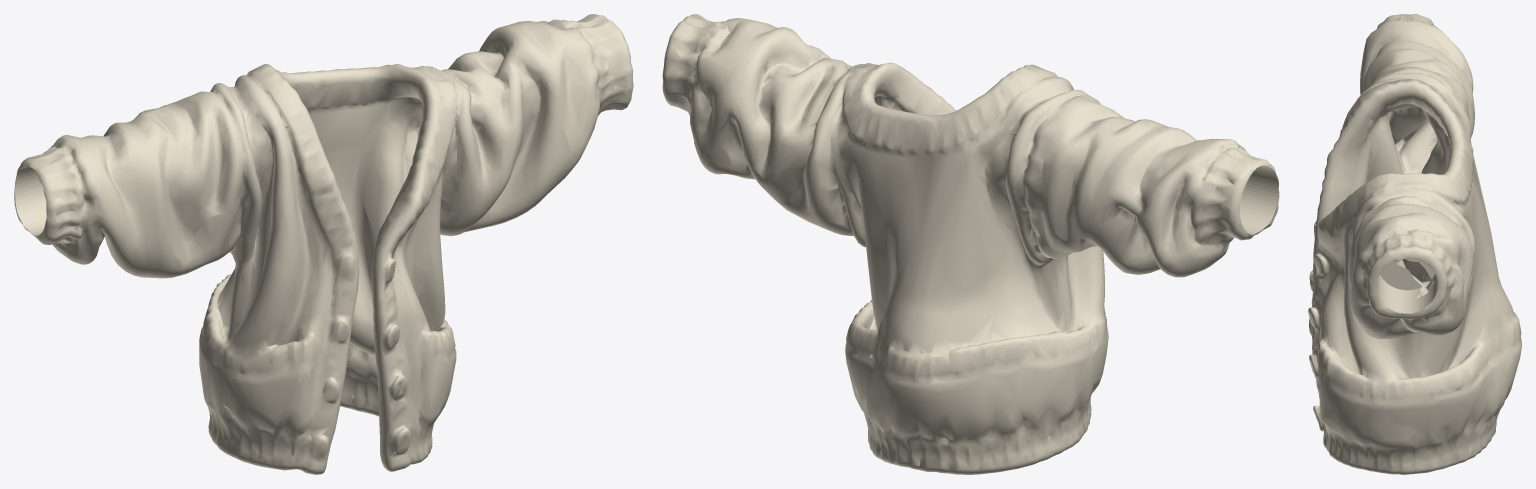
File: cardigan-only-for-reduction.glb
3 views of the same model, side by side, from view 1: azimuth 30°, elevation 25°; view 2: azimuth 150°, elevation 25°; view 3: azimuth 270°, elevation 25° (orthographic). The views are drawn at different scales.
Parts seen in each view (by area): view 1: Half_Shoulder_Cardigan_Only; view 2: Half_Shoulder_Cardigan_Only; view 3: Half_Shoulder_Cardigan_Only.
Boxes of the visible parts, x1,y1,x2,y2 form: Half_Shoulder_Cardigan_Only: [14, 14, 633, 474]; Half_Shoulder_Cardigan_Only: [662, 14, 1279, 474]; Half_Shoulder_Cardigan_Only: [1308, 14, 1521, 474].
Bounding box in the file's own units: 2.77 × 1.77 × 1.02.
